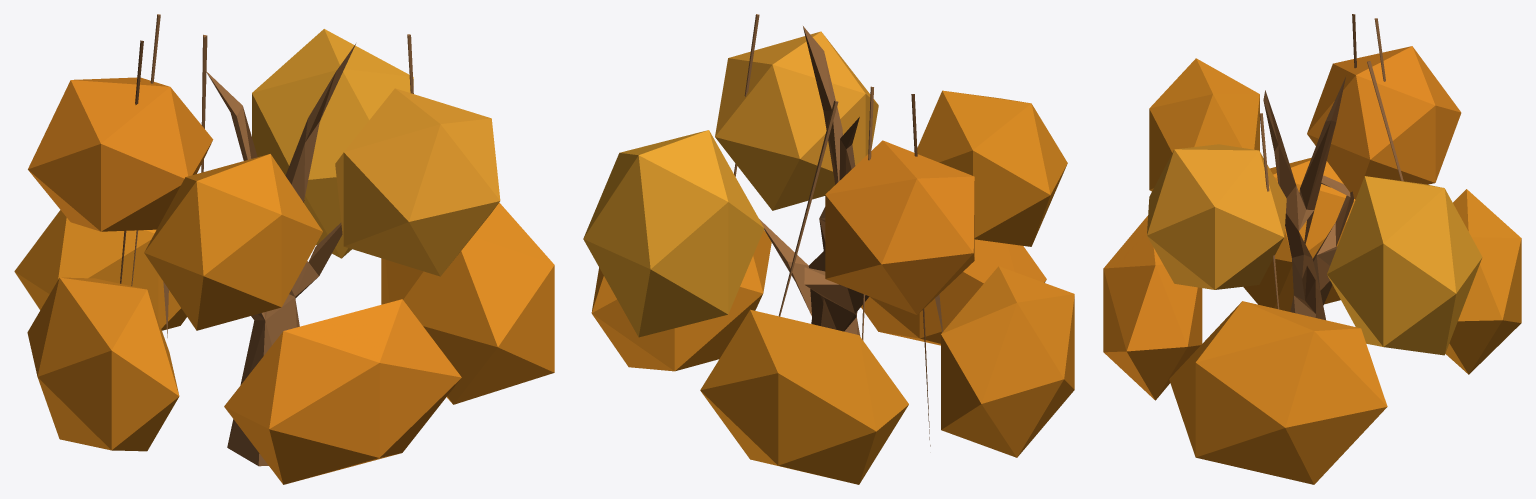
File: willow_autumn_far.glb
3 renders of one model, left to right at view 1: azimuth 30°, elevation 25°; view 2: azimuth 150°, elevation 25°; view 3: azimuth 270°, elevation 25°, orthographic. The views are drawn at different scales.
Parts seen in each view (by area): view 1: willow_autumn_far; view 2: willow_autumn_far; view 3: willow_autumn_far.
Boxes of the visible parts, left/top/right/bottom form: willow_autumn_far: left=14, top=14, right=554, bottom=484; willow_autumn_far: left=583, top=14, right=1074, bottom=484; willow_autumn_far: left=1103, top=14, right=1521, bottom=484.
Bounding box in the file's own units: 8.21 × 6.72 × 6.81.
